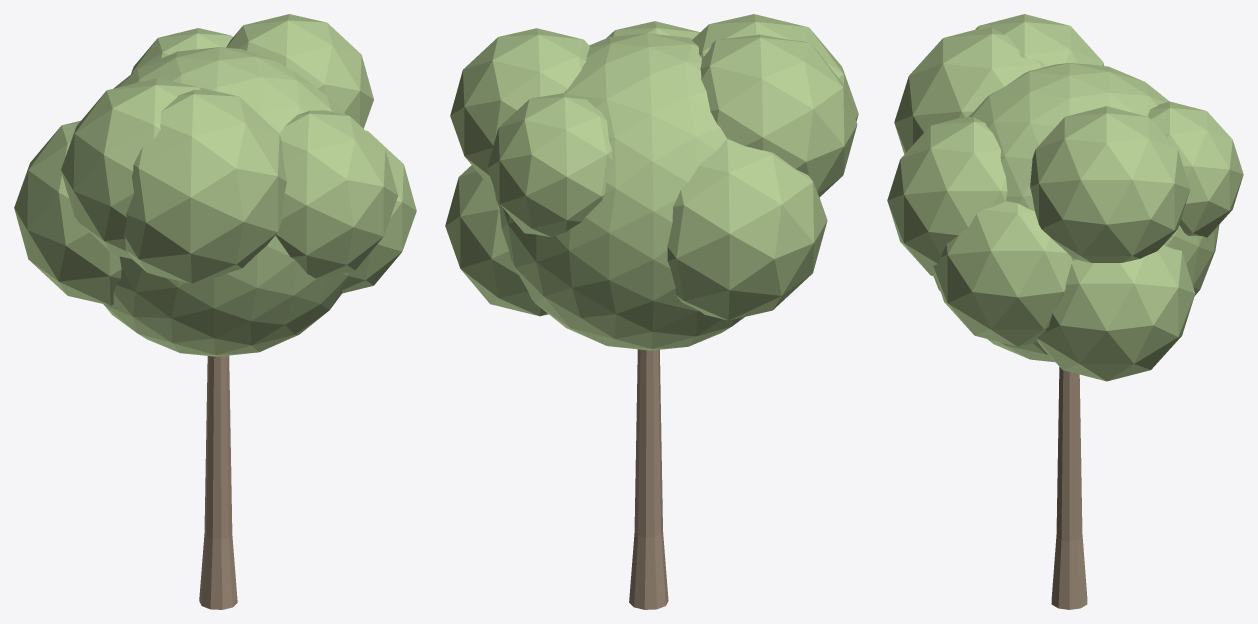
File: tree_b.glb
The picture shows the model from 3 angles, left to right: view 1: azimuth 30°, elevation 25°; view 2: azimuth 150°, elevation 25°; view 3: azimuth 270°, elevation 25°; orthographic projection. The views are drawn at different scales.
Visible parts, largest first — view 1: tree_b_leaf2, tree_b_bark; view 2: tree_b_leaf2, tree_b_bark; view 3: tree_b_leaf2, tree_b_bark.
Part boxes in pixels (x1,y1,x2,y2): tree_b_leaf2: [14, 14, 416, 356]; tree_b_bark: [199, 355, 237, 609]; tree_b_leaf2: [445, 14, 858, 350]; tree_b_bark: [629, 349, 668, 609]; tree_b_leaf2: [887, 14, 1243, 381]; tree_b_bark: [1051, 367, 1087, 609].
Bounding box in the file's own units: 3.69 × 5.69 × 3.41.
